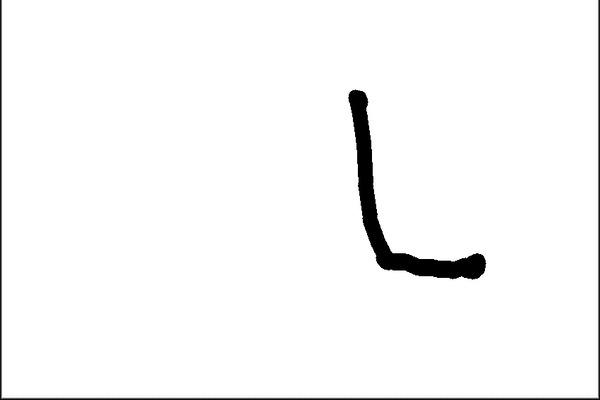L: (341, 84, 490, 285)
